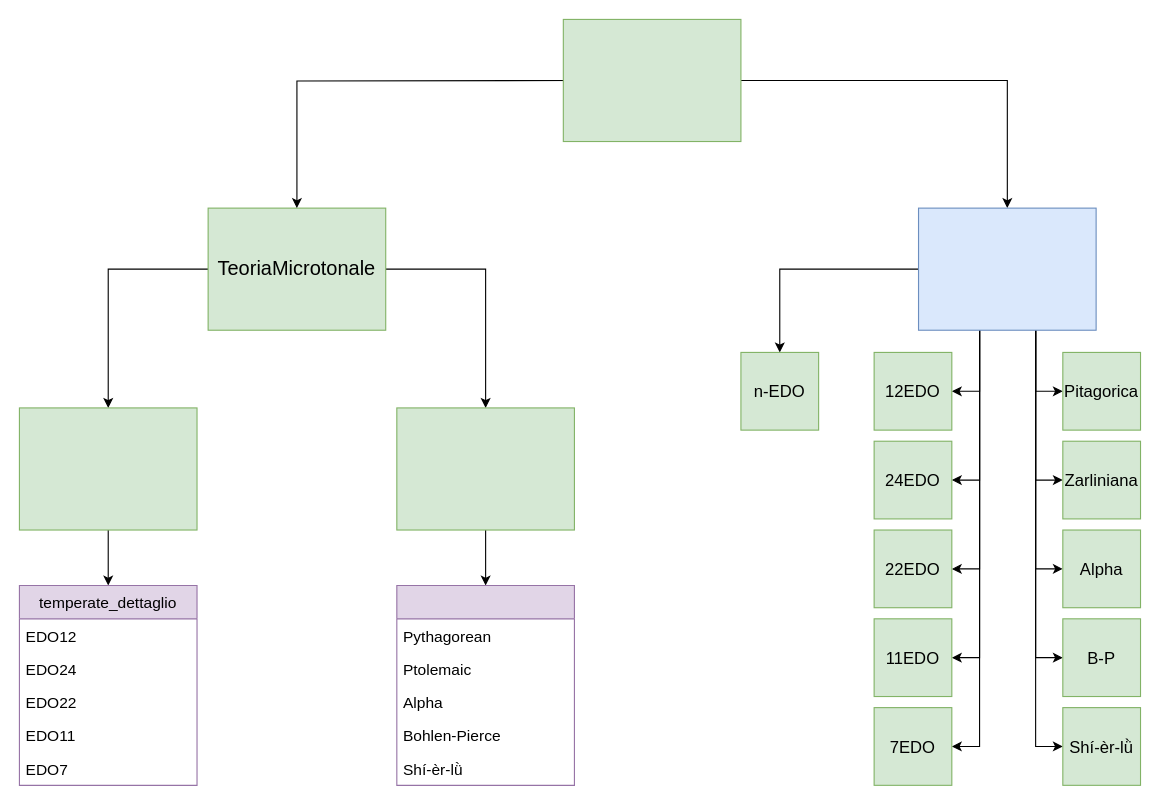
The diagram is 1160 pixels wide and 805 high, and some of its shapes have lost their labels. Each missing label, with the box of its shape:
MainActivity: (562, 18, 741, 142)
nontemperate_dettaglio: (396, 584, 574, 785)
scale_non_temperate: (396, 407, 574, 530)
scale_temperate: (18, 407, 197, 530)
scaleSelection: (917, 207, 1096, 330)
